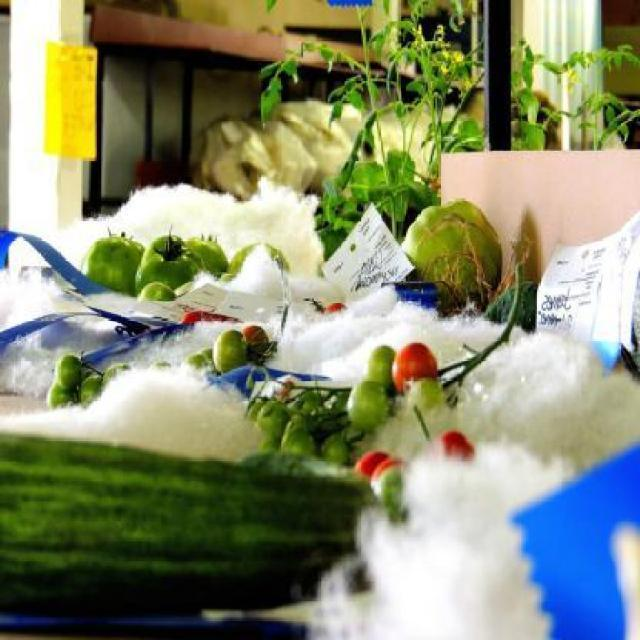Zucchini: (3, 394, 357, 610)
